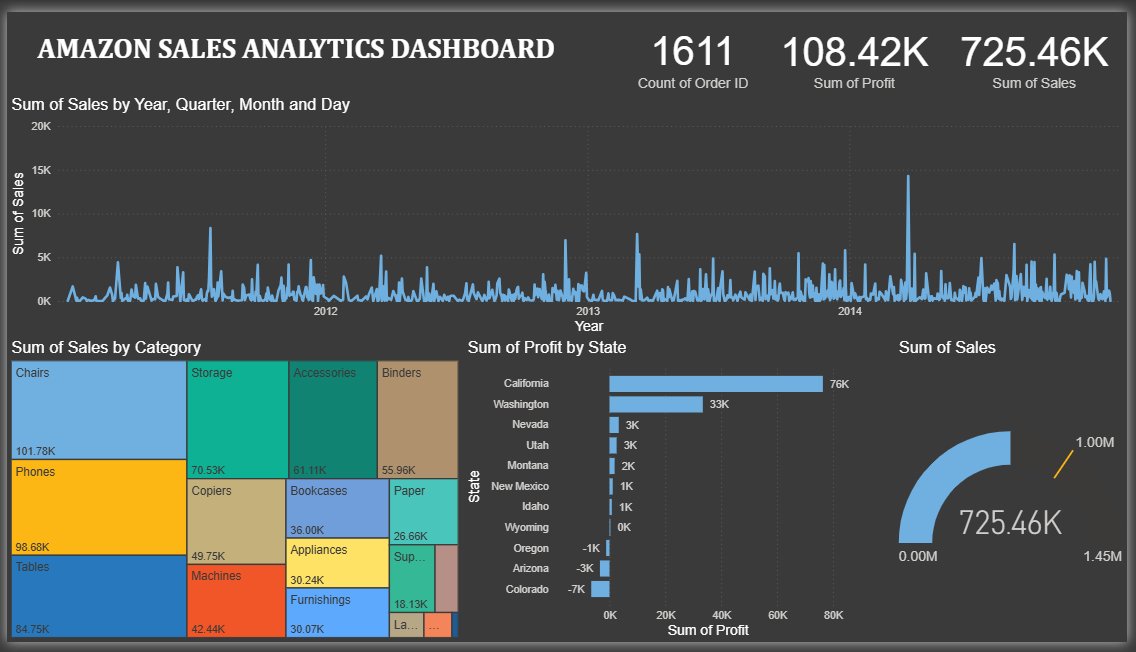

The dashboard page shown, as its layout file describes it:
{"tool":"powerbi","page":{"name":"Page 1","canvas":[1280,720],"ordinal":0},"visuals":[{"type":"card","fields":{"Values":["Sum(Walmart.Sales)"]},"box":[1068.8,0,211.2,103.8],"z":0},{"type":"card","fields":{"Values":["Sum(Walmart.Profit)"]},"box":[868.8,0,200,103.8],"z":1000},{"type":"card","fields":{"Values":["Count(Walmart.Order ID)"]},"box":[700,0,168.8,102.5],"z":2000},{"type":"lineChart","fields":{"Category":["Walmart.Order Date.Variation.Date Hierarchy.Year","Walmart.Order Date.Variation.Date Hierarchy.Quarter","Walmart.Order Date.Variation.Date Hierarchy.Month","Walmart.Order Date.Variation.Date Hierarchy.Day"],"Y":["Sum(Walmart.Sales)"]},"box":[0,95.4,1280.3,277.6],"z":3000},{"type":"treemap","fields":{"Group":["Walmart.Category"],"Values":["Sum(Walmart.Sales)"]},"box":[0,373,520.9,347.3],"z":4000},{"type":"clusteredBarChart","fields":{"Category":["Walmart.State"],"Y":["Sum(Walmart.Profit)"]},"box":[520.9,373,469.6,347.3],"z":5000},{"type":"gauge","fields":{"Y":["Sum(Walmart.Sales)"]},"box":[1015,373,265.4,347.3],"z":6000},{"type":"textbox","box":[0,17.5,661.2,58.8],"z":7000}]}

Visuals, with their boxes in screenshot pixels (x1, y1, x2, y2), scaled from the page's 1280x720 canvas onto the 1136x652 screenshot:
card - Sum(Walmart.Sales): rect(949, 0, 1135, 94)
card - Sum(Walmart.Profit): rect(771, 0, 949, 94)
card - Count(Walmart.Order ID): rect(621, 0, 771, 93)
lineChart - Walmart.Order Date.Variation.Date Hierarchy.Year x Walmart.Order Date.Variation.Date Hierarchy.Quarter: rect(0, 86, 1135, 338)
treemap - Walmart.Category x Sum(Walmart.Sales): rect(0, 338, 462, 651)
clusteredBarChart - Walmart.State x Sum(Walmart.Profit): rect(462, 338, 879, 651)
gauge - Sum(Walmart.Sales): rect(901, 338, 1135, 651)
textbox: rect(0, 16, 587, 69)
